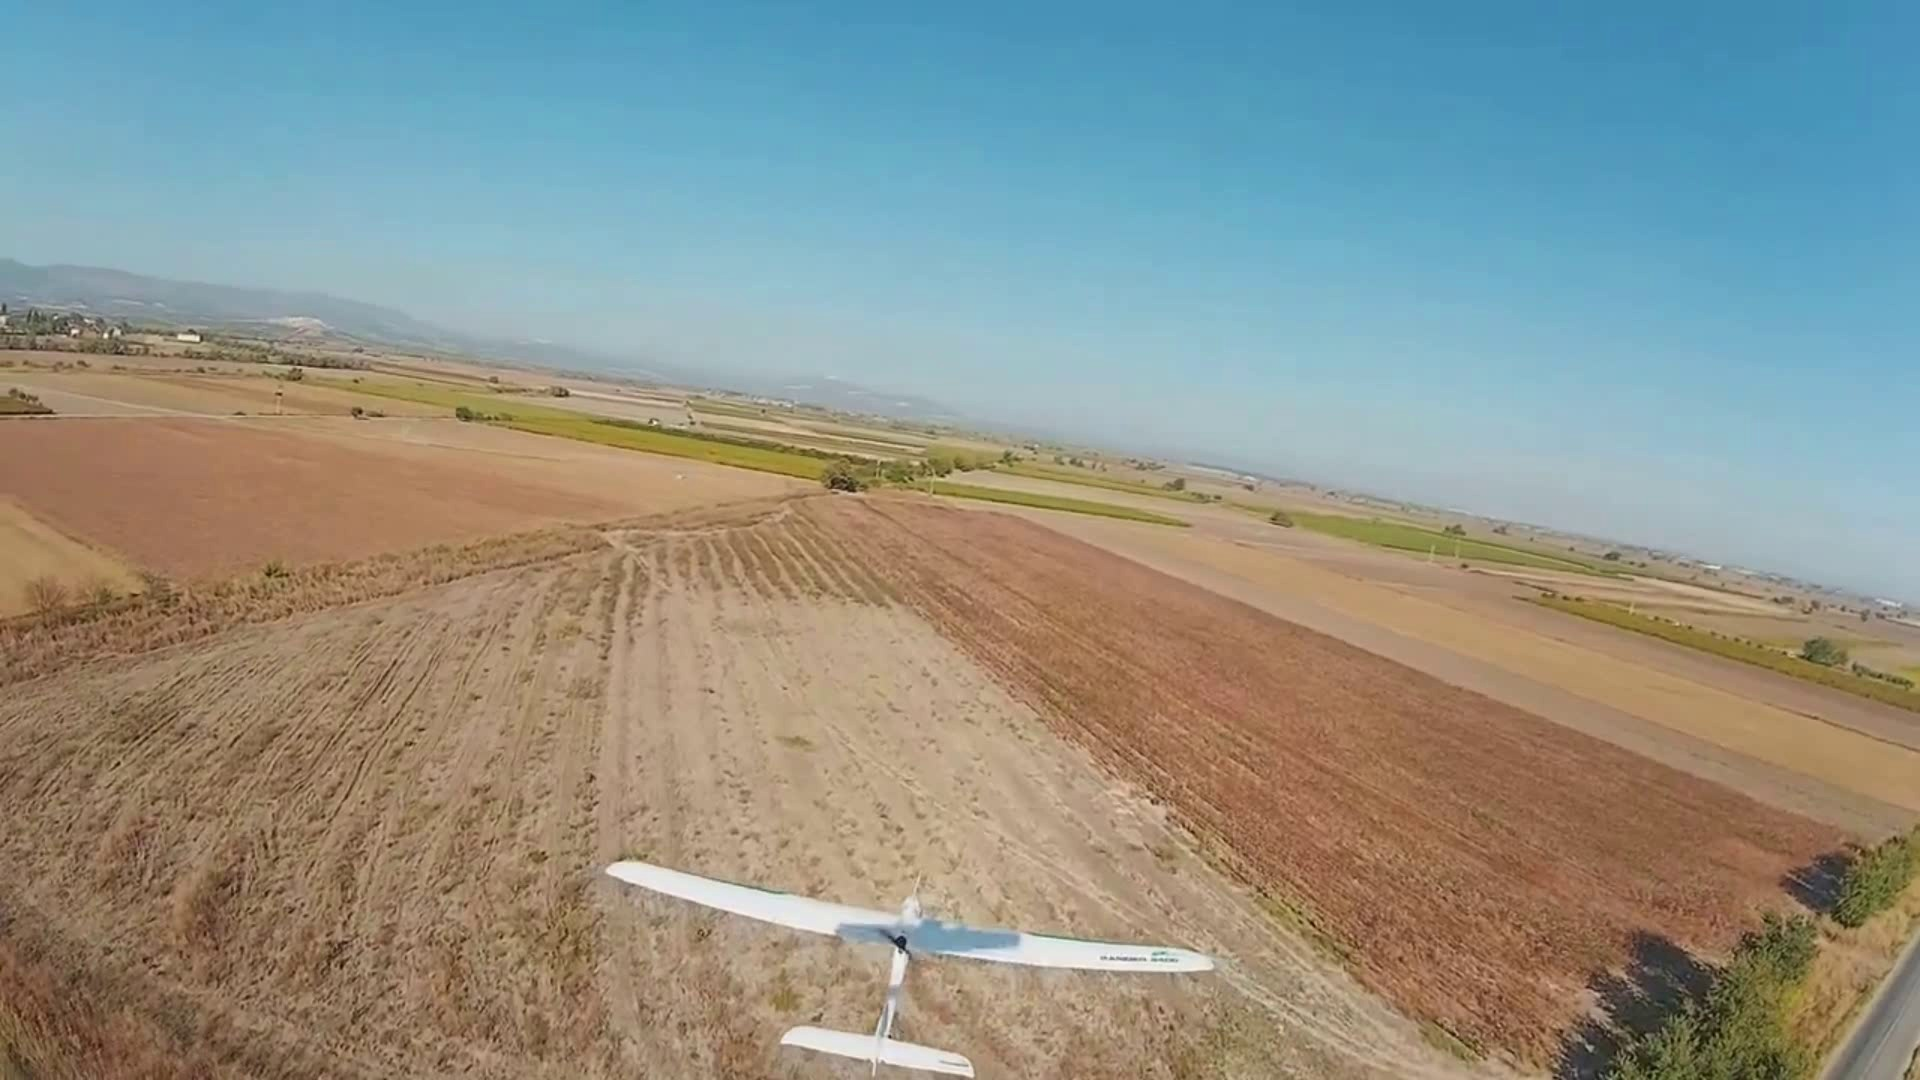airplane: (607, 858, 1215, 1069)
